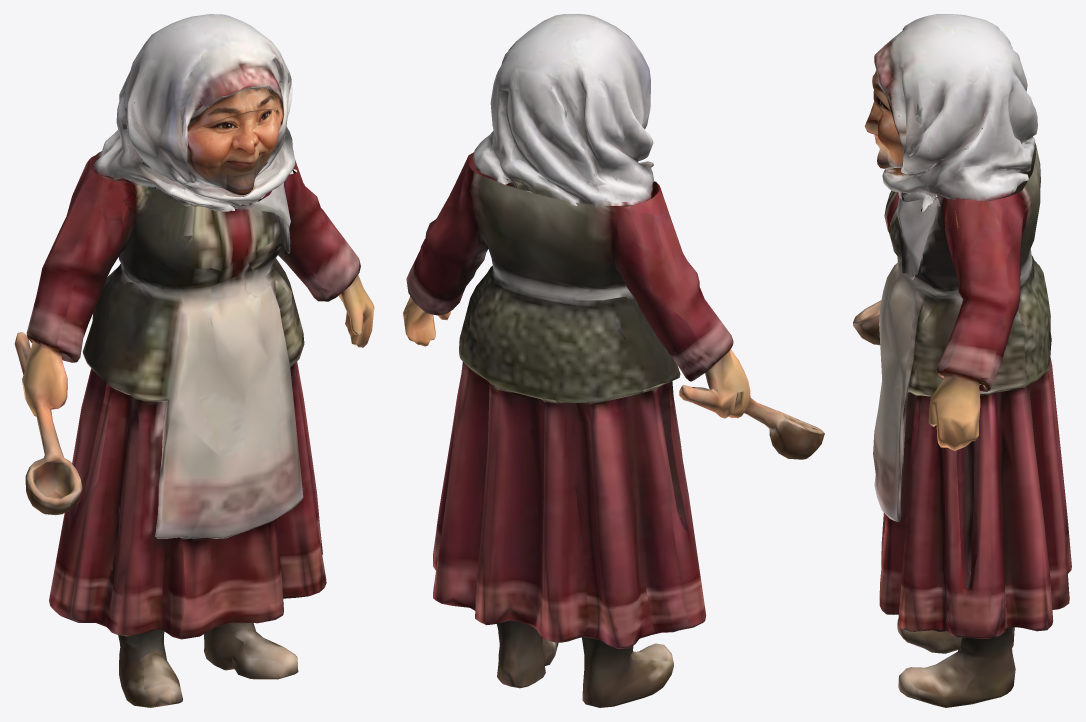
File: cook.gen.phone.glb
The picture shows the model from 3 angles, left to right: view 1: azimuth 30°, elevation 25°; view 2: azimuth 150°, elevation 25°; view 3: azimuth 270°, elevation 25°; orthographic projection.
Visible parts, largest first — view 1: cook.raw; view 2: cook.raw; view 3: cook.raw.
Part boxes in pixels (x1,y1,x2,y2): cook.raw: (14, 14, 374, 707); cook.raw: (403, 14, 824, 707); cook.raw: (853, 14, 1071, 707).
Bounding box in the file's own units: 1.06 × 1.75 × 0.5323.
1 material, 1 textured.
